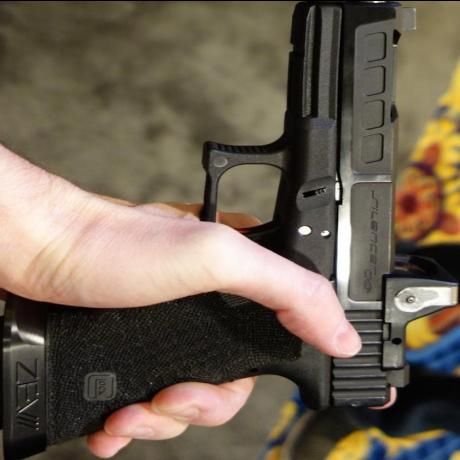1: (0, 157, 338, 453)
weapon: (208, 3, 425, 418)
